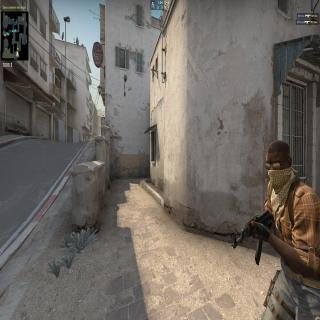T-Head: (265, 137, 294, 192)
